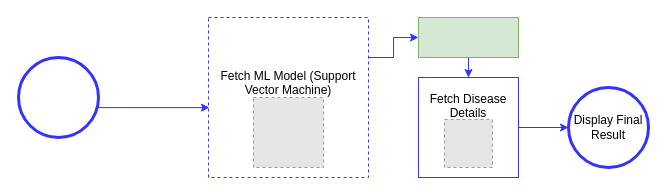
Image size: 667x195. Some labels were removed from this diagram. Grey dashed boxes stand in for pictures. Here are the shapes that lost their labels. From the top down, the centre of each, then its label:
[468,37]: Outputs a NCD
[58,97]: Symptoms
